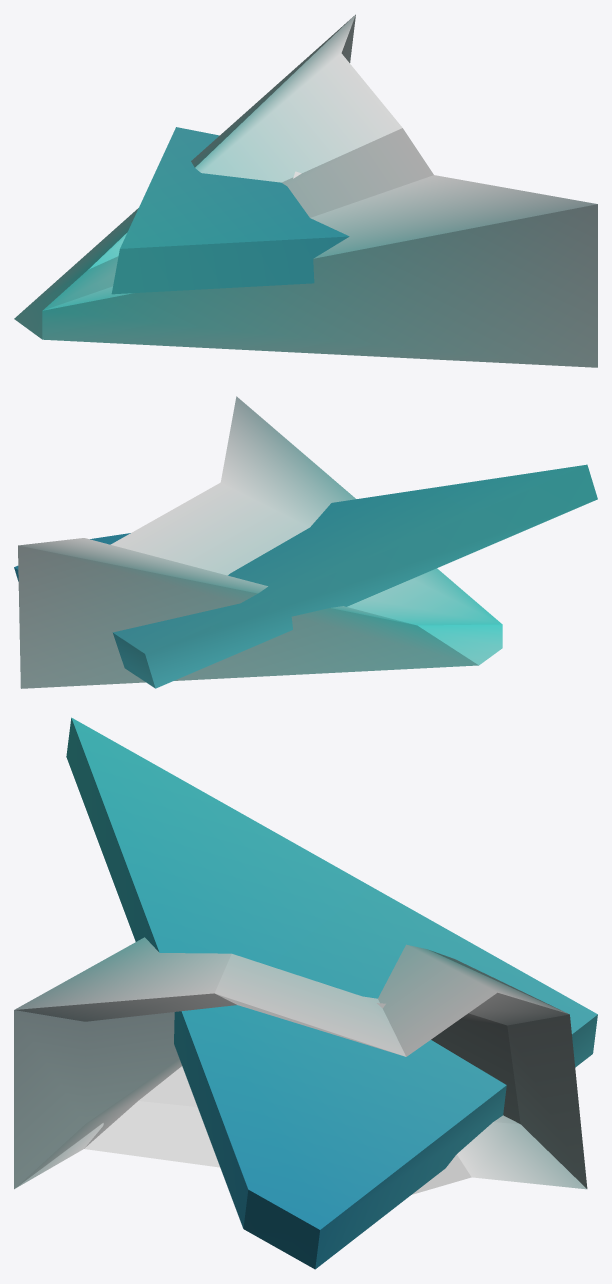
Rendered from DestrocosPlayer.fbx.
3 views of the same model, one above another, from view 1: azimuth 30°, elevation 25°; view 2: azimuth 150°, elevation 25°; view 3: azimuth 270°, elevation 25° (orthographic). The views are drawn at different scales.
Visible parts, largest first — view 1: FragmentoGrande, FragmentoTriangulo; view 2: FragmentoGrande, FragmentoTriangulo; view 3: FragmentoTriangulo, FragmentoGrande.
Part boxes in pixels (x1,y1,x2,y2): FragmentoGrande: [14, 14, 597, 367]; FragmentoTriangulo: [111, 127, 349, 294]; FragmentoGrande: [18, 396, 502, 688]; FragmentoTriangulo: [14, 464, 597, 688]; FragmentoTriangulo: [66, 717, 597, 1269]; FragmentoGrande: [14, 937, 587, 1194].
Size of the model in its own units: 147 by 56.53 by 115.
